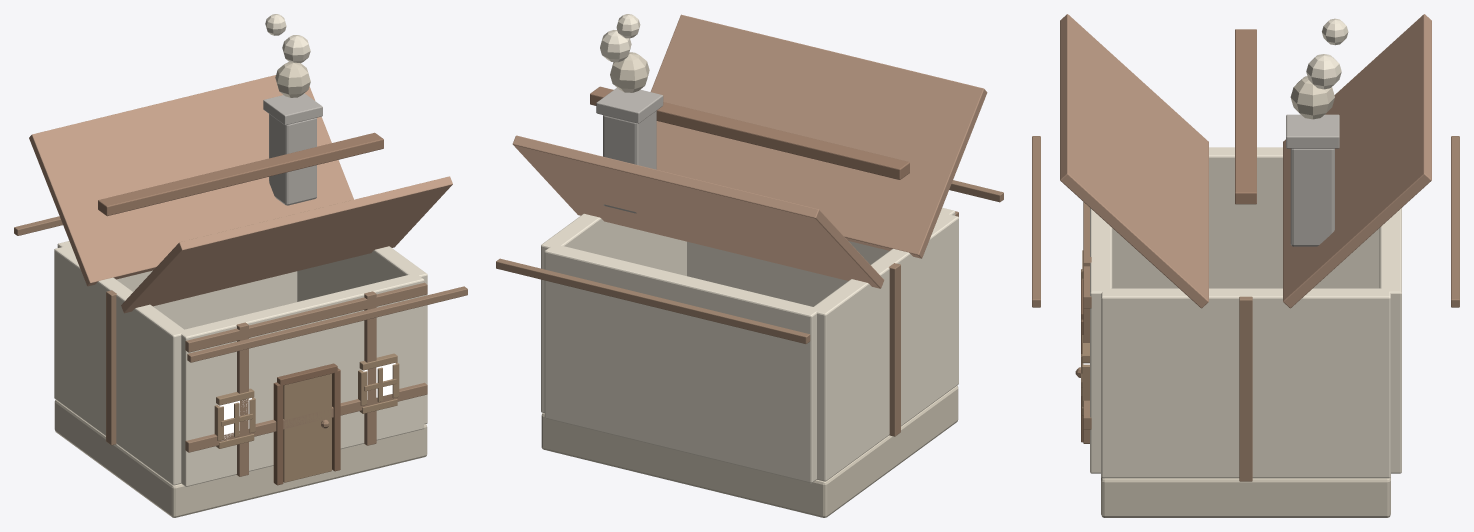
File: cottage_v3.glb
3 renders of one model, left to right at view 1: azimuth 30°, elevation 25°; view 2: azimuth 150°, elevation 25°; view 3: azimuth 270°, elevation 25°, orthographic. The views are drawn at different scales.
Parts seen in each view (by area): view 1: Roof_Back, Wall_Front, Wall_Left, Roof_Front, Foundation, Roof_Ridge, Door, Wall_Back, Wall_Right, Beam_F_Top, Chimney_Base, Eave_F (+10 smaller); view 2: Wall_Back, Roof_Front, Wall_Left, Roof_Back, Foundation, Wall_Front, Roof_Ridge, Wall_Right, Eave_B, Chimney_Base, Beam_L_Vert, Chimney_Cap (+3 smaller); view 3: Wall_Right, Roof_Front, Roof_Back, Wall_Left, Foundation, Chimney_Base, Roof_Ridge, Wall_Back, Wall_Front, Beam_R_Vert, Chimney_Cap, Eave_B (+5 smaller).
Part boxes in pixels (bbox=[...]): Roof_Back: bbox=[29, 75, 353, 286]; Wall_Front: bbox=[180, 273, 424, 486]; Wall_Left: bbox=[54, 246, 184, 485]; Roof_Front: bbox=[121, 176, 452, 313]; Foundation: bbox=[54, 400, 427, 517]; Roof_Ridge: bbox=[98, 132, 383, 216]; Door: bbox=[283, 373, 331, 482]; Wall_Back: bbox=[57, 241, 297, 329]; Wall_Right: bbox=[297, 246, 427, 424]; Beam_F_Top: bbox=[185, 282, 427, 352]; Chimney_Base: bbox=[269, 114, 316, 205]; Eave_F: bbox=[187, 286, 467, 362]; Wall_Back: bbox=[544, 244, 819, 482]; Roof_Front: bbox=[650, 14, 987, 258]; Wall_Left: bbox=[814, 214, 958, 481]; Roof_Back: bbox=[512, 135, 884, 288]; Foundation: bbox=[541, 385, 958, 517]; Wall_Front: bbox=[687, 207, 955, 306]; Roof_Ridge: bbox=[590, 86, 909, 179]; Wall_Right: bbox=[541, 213, 686, 412]; Eave_B: bbox=[496, 258, 810, 343]; Chimney_Base: bbox=[603, 111, 656, 213]; Beam_L_Vert: bbox=[888, 263, 900, 436]; Chimney_Cap: bbox=[596, 88, 663, 123]; Wall_Right: bbox=[1101, 288, 1390, 478]; Roof_Front: bbox=[1060, 14, 1208, 308]; Roof_Back: bbox=[1283, 14, 1431, 308]; Wall_Left: bbox=[1112, 147, 1379, 288]; Foundation: bbox=[1101, 477, 1390, 517]; Chimney_Base: bbox=[1290, 148, 1334, 246]; Roof_Ridge: bbox=[1235, 29, 1256, 204]; Wall_Back: bbox=[1379, 208, 1401, 473]; Wall_Front: bbox=[1090, 208, 1112, 473]; Beam_R_Vert: bbox=[1239, 296, 1252, 481]; Chimney_Cap: bbox=[1286, 114, 1339, 148]; Eave_B: bbox=[1451, 136, 1459, 307].
Bounding box in the file's own units: 1.74 × 2.31 × 1.92.
